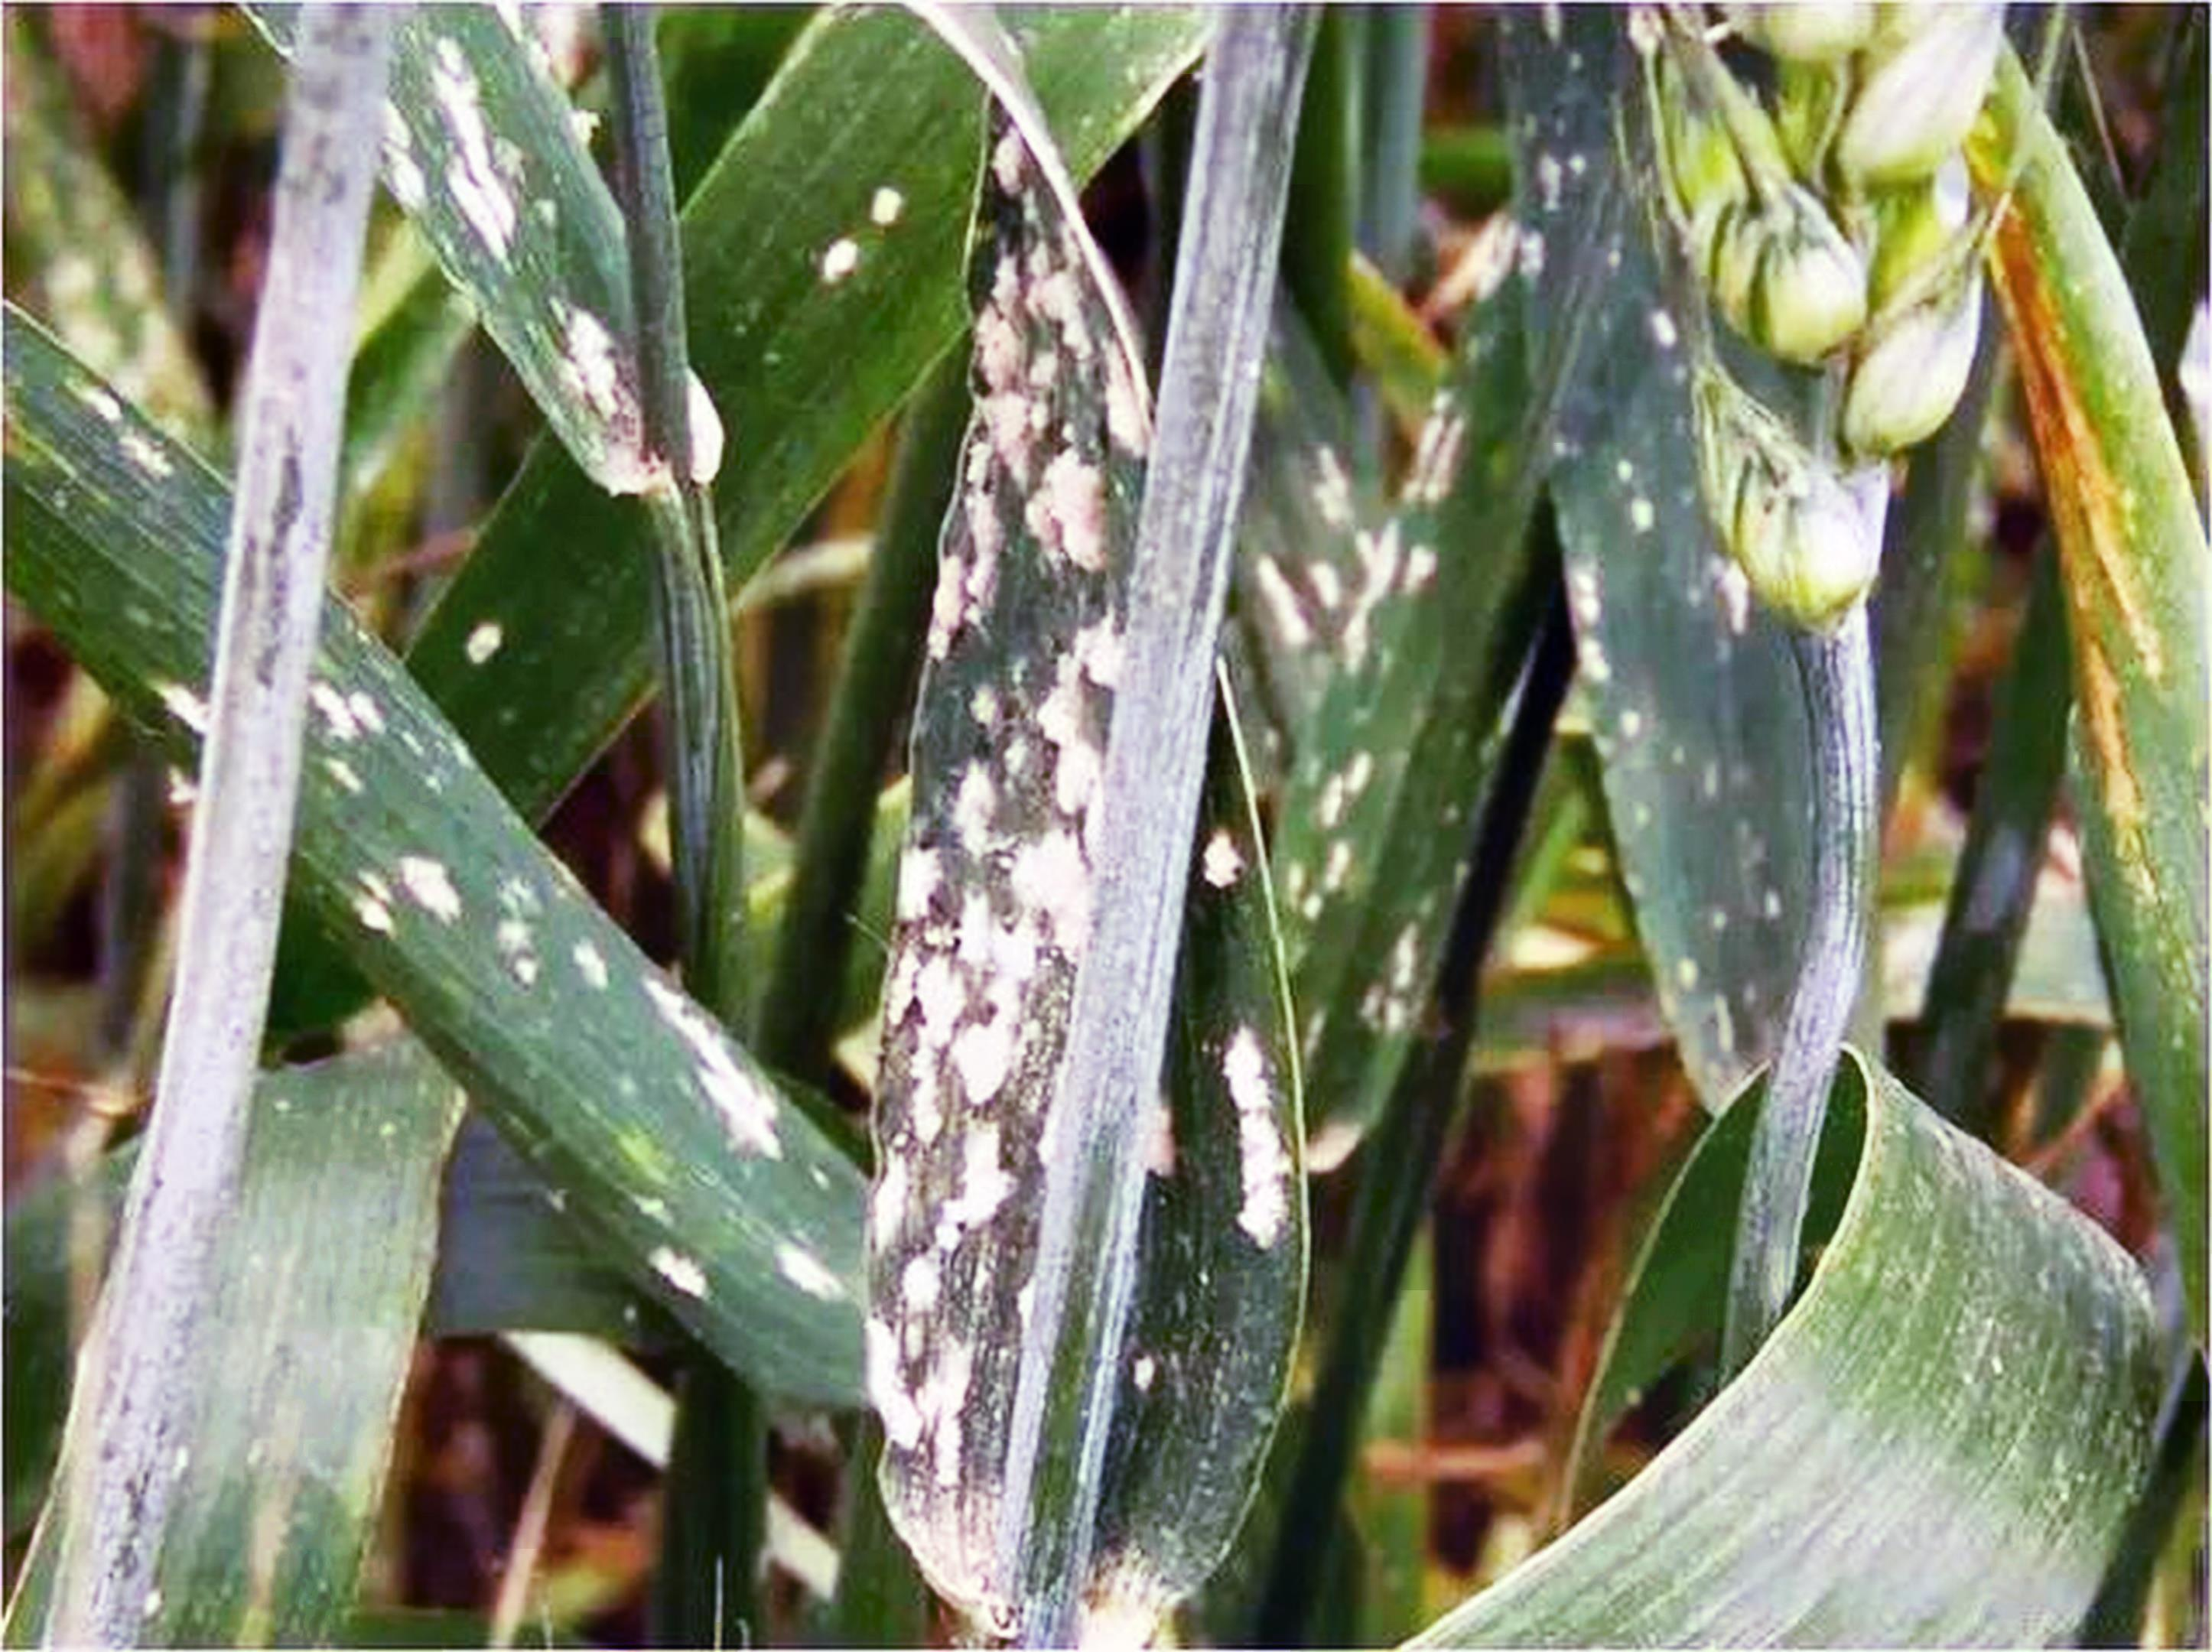Powdery Mildew: (834, 272, 1272, 1501)
